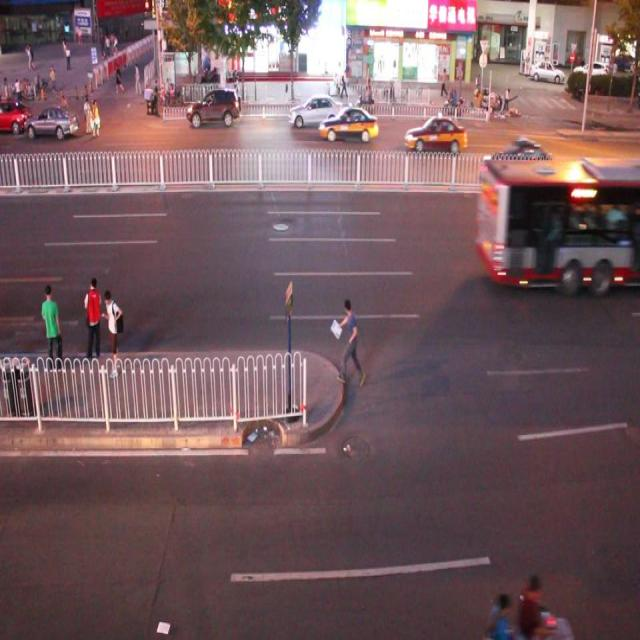car: (404, 112, 466, 153), (485, 136, 550, 173), (319, 105, 378, 143), (185, 88, 241, 128), (289, 94, 344, 126), (24, 107, 80, 138), (1, 98, 31, 132)
van: (475, 158, 640, 289)
